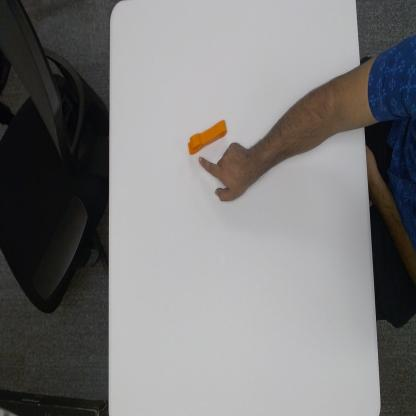Arm: (259, 52, 368, 170)
Hand: (197, 142, 258, 205)
Screwdriver: (187, 119, 228, 158)
